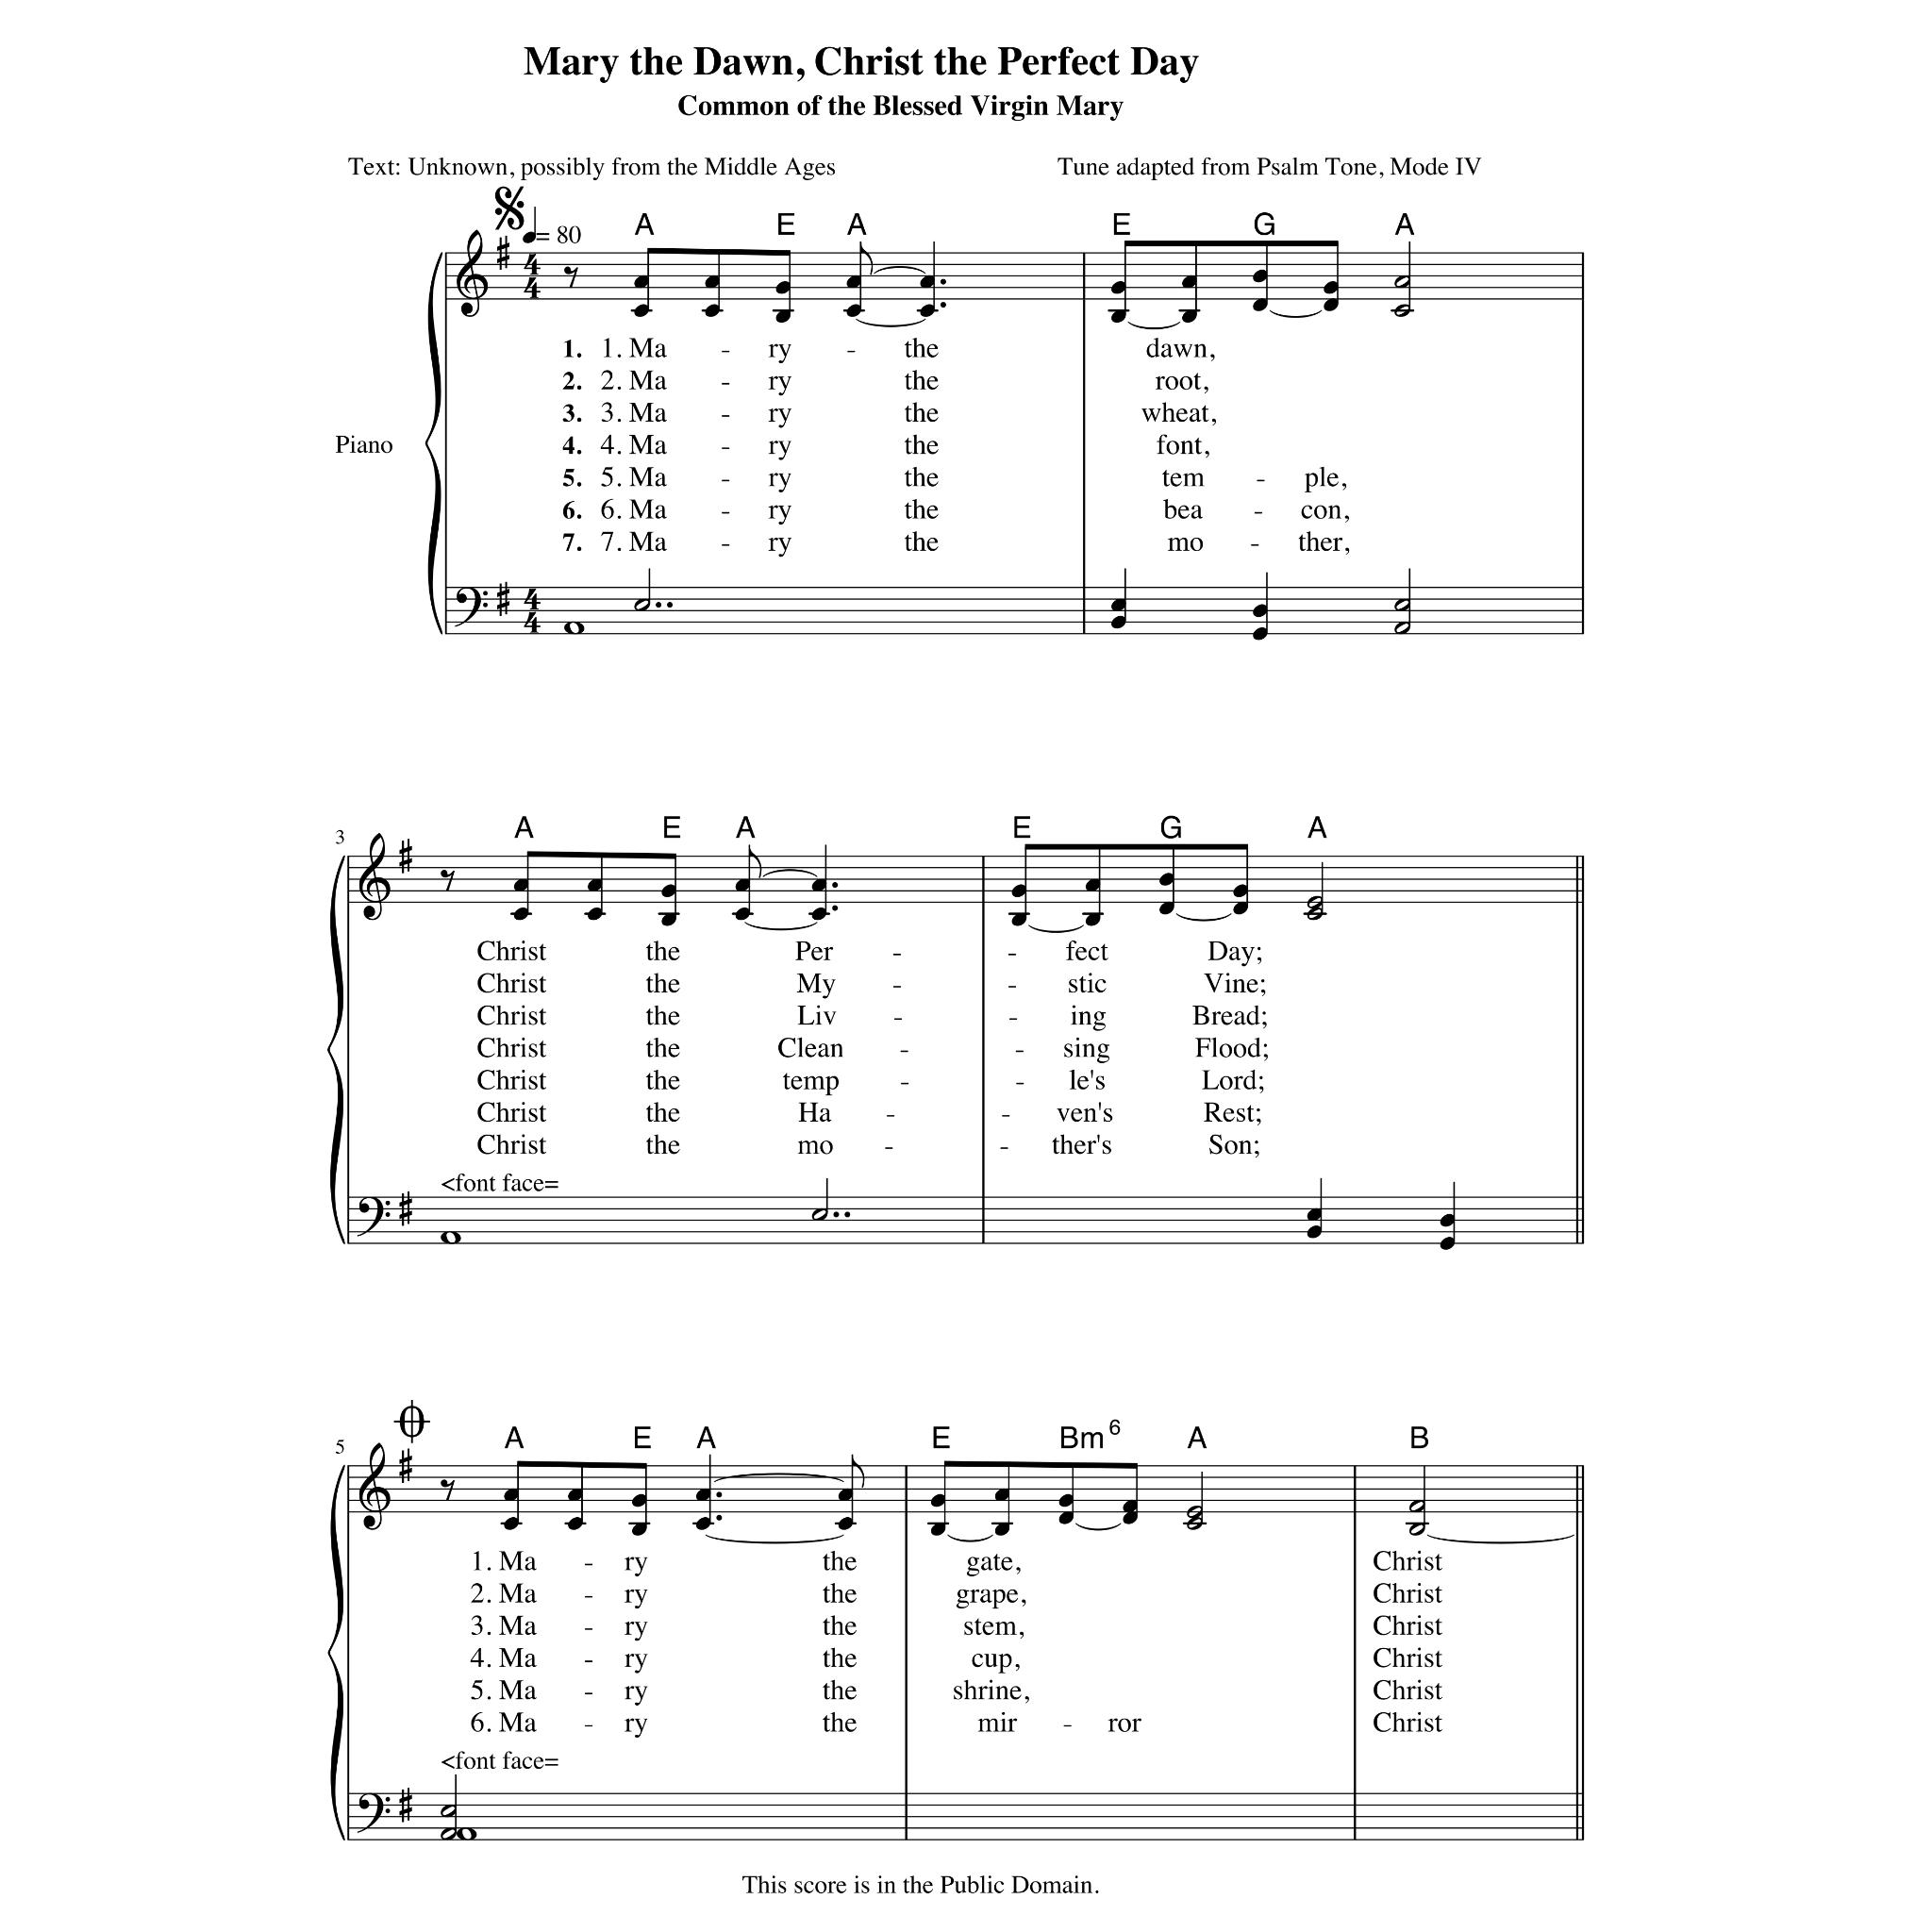brace: (326, 855, 345, 1245), (425, 252, 443, 635), (326, 1464, 345, 1841)
fClef: (454, 587, 488, 628), (357, 1196, 391, 1238), (357, 1792, 391, 1834)
flag8thUp: (859, 241, 873, 275), (749, 845, 762, 879), (852, 1455, 865, 1489)
gClef: (456, 229, 488, 318), (358, 832, 391, 921), (358, 1442, 391, 1531)
noteheadBlack: (1253, 604, 1268, 619), (1181, 309, 1196, 325), (1111, 615, 1126, 630), (1111, 309, 1126, 325), (775, 309, 791, 325), (1323, 299, 1340, 312), (1323, 281, 1340, 294), (919, 275, 936, 289), (919, 305, 936, 318), (845, 275, 862, 289), (845, 305, 862, 318), (704, 275, 721, 289), (704, 305, 721, 318), (1232, 885, 1249, 898), (1232, 902, 1249, 915), (1306, 1208, 1323, 1222), (1306, 1225, 1323, 1239), (734, 878, 751, 891), (734, 908, 751, 921), (660, 885, 677, 898), (660, 913, 677, 926), (694, 1489, 711, 1502), (694, 1517, 711, 1530), (930, 1494, 947, 1507), (930, 1523, 947, 1536), (630, 1523, 647, 1536), (630, 1494, 647, 1507), (1253, 299, 1268, 312), (1253, 627, 1268, 641), (1253, 270, 1268, 283), (1181, 275, 1196, 289), (634, 275, 649, 289), (634, 305, 649, 318), (1111, 599, 1126, 612), (1111, 281, 1126, 294), (775, 281, 791, 294), (1158, 902, 1174, 915), (1158, 874, 1174, 887), (1085, 878, 1100, 891), (1085, 913, 1100, 926), (1440, 1214, 1455, 1227), (1440, 1237, 1455, 1250), (513, 878, 528, 891), (513, 908, 528, 921), (811, 878, 826, 891), (811, 908, 826, 921), (1011, 885, 1026, 898), (1011, 913, 1026, 926), (587, 878, 602, 891), (587, 908, 602, 921), (1058, 1494, 1074, 1507), (1123, 1500, 1138, 1513), (1123, 1511, 1138, 1524), (1058, 1511, 1074, 1524), (994, 1489, 1009, 1502), (994, 1523, 1009, 1536), (504, 1489, 519, 1502), (504, 1517, 519, 1530), (838, 1489, 853, 1502), (838, 1517, 853, 1530), (568, 1489, 583, 1502), (568, 1517, 583, 1530)
noteheadHalf: (1393, 599, 1410, 612), (1393, 622, 1410, 635), (1393, 275, 1410, 289), (1393, 305, 1410, 318), (633, 599, 650, 612), (1307, 896, 1324, 909), (1307, 908, 1324, 921), (811, 1208, 828, 1222), (1186, 1506, 1203, 1519), (1186, 1517, 1203, 1530), (1408, 1500, 1425, 1513), (1408, 1523, 1425, 1536), (440, 1827, 457, 1840), (440, 1805, 457, 1818)
noteheadWhole: (440, 1230, 460, 1245), (455, 1827, 477, 1840), (564, 622, 585, 635)
rest8th: (563, 267, 578, 290), (440, 870, 455, 892), (440, 1479, 455, 1502)
